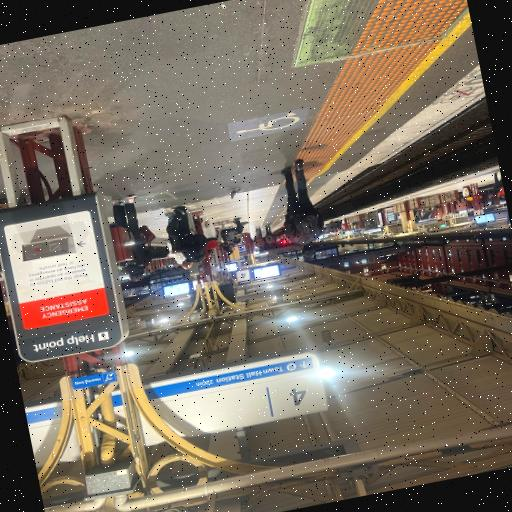clear_path: (34, 0, 371, 227)
platform_edge: (311, 71, 485, 203), (323, 173, 474, 222), (272, 219, 284, 233)
tgsi: (284, 0, 465, 184)
